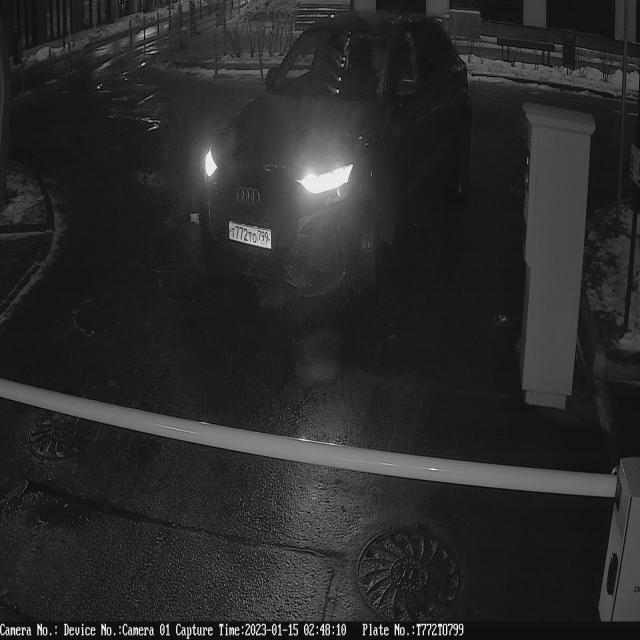car-plate-numbers: (229, 219, 275, 257)
